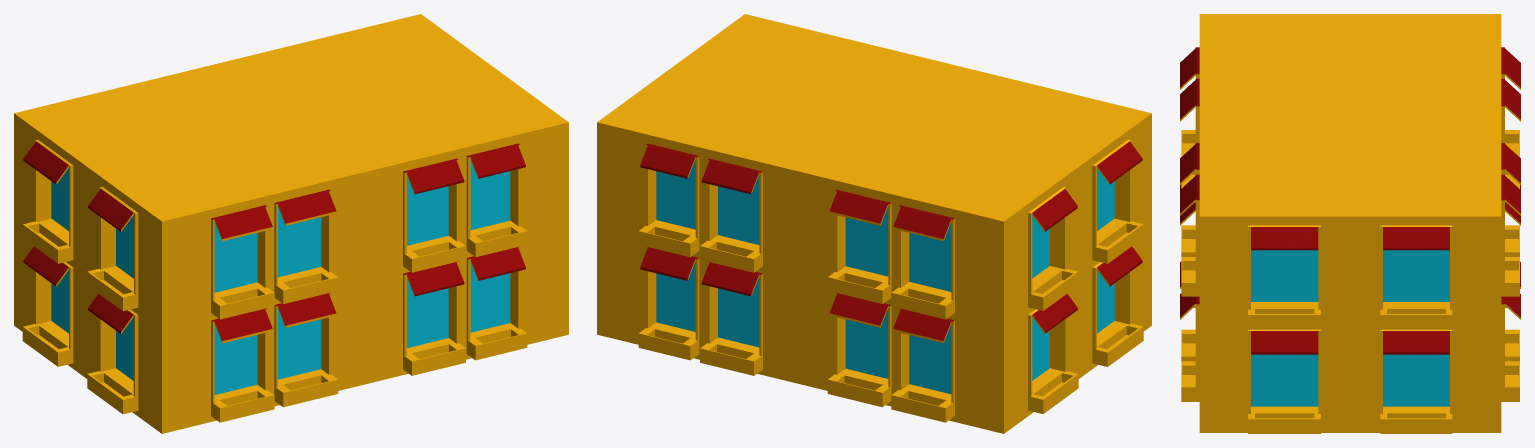
Rendered from building.fbx.
The picture shows the model from 3 angles, left to right: view 1: azimuth 30°, elevation 25°; view 2: azimuth 150°, elevation 25°; view 3: azimuth 270°, elevation 25°; orthographic projection.
Parts seen in each view (by area): view 1: pCube1; view 2: pCube1; view 3: pCube1.
Part boxes in pixels (x1=…): pCube1: x1=14, y1=14, x2=568, y2=433; pCube1: x1=597, y1=14, x2=1151, y2=433; pCube1: x1=1180, y1=14, x2=1520, y2=433.
Size of the model in its own units: 7.12 by 3.29 by 4.69.
